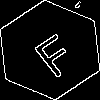F: (25, 25, 81, 80)
